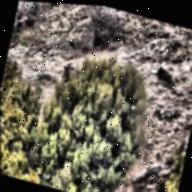boar: (146, 57, 181, 94)
